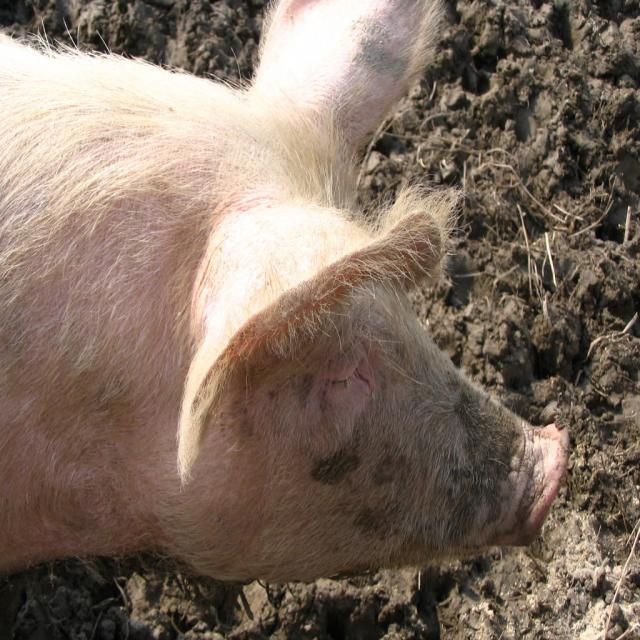Pig: (0, 0, 573, 580)
